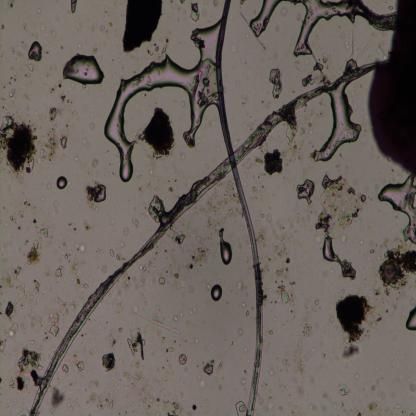Air bubble: (104, 26, 219, 183), (311, 85, 364, 162), (289, 1, 355, 57), (378, 175, 416, 244), (63, 51, 105, 86), (250, 0, 286, 38), (216, 230, 233, 266), (322, 234, 341, 266), (294, 177, 317, 202), (27, 40, 44, 62), (404, 307, 416, 332), (95, 184, 107, 202), (211, 284, 223, 302), (55, 176, 69, 190), (69, 0, 79, 14)
Background material: (318, 172, 368, 238), (333, 294, 374, 359), (121, 364, 173, 414), (0, 113, 37, 179), (121, 0, 164, 54), (139, 104, 177, 162), (265, 214, 301, 269), (201, 180, 244, 226), (379, 246, 416, 290), (15, 346, 42, 392), (370, 288, 404, 324), (136, 392, 187, 415), (274, 257, 296, 308), (106, 276, 134, 314), (134, 314, 182, 336), (130, 251, 160, 283), (124, 328, 148, 365), (166, 254, 189, 292), (187, 233, 210, 271), (85, 388, 115, 413), (39, 128, 58, 165), (144, 32, 169, 60), (300, 294, 324, 322), (101, 319, 123, 349), (260, 151, 284, 176), (88, 10, 114, 32), (53, 294, 76, 318), (80, 334, 104, 357), (267, 68, 284, 100), (245, 159, 265, 186), (296, 200, 315, 228), (356, 34, 375, 62), (297, 110, 316, 137), (194, 71, 210, 103), (150, 195, 167, 225), (21, 195, 42, 219), (167, 228, 188, 250), (60, 97, 80, 120), (5, 266, 24, 289), (282, 143, 301, 166), (284, 115, 299, 144), (26, 238, 42, 265), (47, 310, 61, 340), (19, 308, 40, 328), (50, 385, 66, 411), (9, 209, 24, 236), (136, 284, 152, 309), (294, 338, 304, 378), (260, 387, 276, 412), (100, 352, 118, 374), (339, 259, 356, 282), (159, 334, 175, 358), (105, 245, 124, 264), (16, 290, 35, 308), (249, 183, 268, 201), (201, 356, 215, 378), (312, 52, 329, 70), (188, 1, 201, 24), (242, 297, 256, 318), (232, 279, 249, 296), (366, 398, 382, 416), (66, 397, 84, 413), (41, 23, 57, 41), (16, 66, 30, 86), (15, 393, 27, 416), (240, 84, 251, 109), (86, 183, 96, 210), (242, 114, 258, 130), (321, 270, 336, 287), (89, 374, 103, 392), (70, 275, 88, 289), (8, 44, 23, 60), (81, 219, 97, 234), (285, 400, 300, 416), (376, 33, 386, 57), (7, 322, 20, 340), (43, 232, 55, 251), (52, 263, 64, 282), (300, 73, 315, 88), (50, 79, 64, 95), (3, 75, 19, 89), (191, 372, 204, 389), (180, 216, 193, 233), (140, 183, 160, 194), (298, 382, 310, 400), (73, 241, 87, 256), (48, 104, 60, 121), (0, 203, 8, 228), (240, 365, 250, 385), (31, 276, 42, 294), (300, 322, 314, 336), (62, 247, 75, 262), (258, 211, 271, 225), (337, 384, 352, 396), (284, 311, 296, 326), (70, 258, 81, 274), (5, 300, 14, 319), (45, 172, 55, 189), (234, 401, 247, 414), (44, 64, 56, 78), (321, 389, 333, 403), (368, 381, 380, 395), (258, 96, 270, 110), (2, 394, 11, 412), (179, 352, 188, 370), (279, 374, 288, 392), (218, 350, 226, 370), (76, 358, 86, 374), (282, 357, 292, 373), (88, 155, 100, 168), (140, 199, 147, 221), (147, 164, 156, 181), (60, 134, 68, 152), (0, 277, 8, 295), (5, 373, 14, 389), (94, 245, 105, 258), (67, 221, 77, 235), (80, 134, 90, 148), (20, 21, 30, 35), (1, 255, 16, 264), (16, 176, 27, 188), (1, 103, 12, 115), (333, 162, 346, 172), (130, 217, 140, 229), (72, 152, 82, 164), (0, 336, 7, 353), (52, 199, 59, 215), (120, 226, 130, 237), (42, 331, 50, 344), (8, 88, 17, 99), (40, 194, 48, 206), (75, 38, 83, 50), (271, 54, 279, 66), (39, 228, 49, 237), (78, 197, 84, 212), (60, 363, 68, 374), (352, 370, 360, 381), (27, 61, 35, 72), (101, 265, 109, 276), (289, 376, 297, 387), (66, 379, 78, 386), (279, 7, 288, 16), (30, 218, 38, 228), (3, 240, 11, 250), (366, 222, 376, 230), (170, 312, 180, 320), (228, 42, 236, 52), (193, 335, 200, 346), (132, 303, 139, 314), (296, 61, 303, 72), (158, 276, 166, 285), (312, 31, 320, 40), (92, 44, 99, 54), (70, 356, 77, 366), (176, 0, 186, 7), (367, 249, 377, 256), (90, 121, 96, 132), (394, 402, 402, 410), (322, 352, 330, 360), (340, 402, 348, 410), (9, 0, 16, 9), (191, 305, 198, 314), (242, 344, 248, 354), (132, 205, 138, 215), (28, 339, 36, 346), (191, 404, 198, 412), (184, 320, 192, 327), (203, 283, 211, 290), (44, 268, 50, 277), (210, 0, 219, 6), (238, 327, 245, 334), (58, 43, 64, 51), (340, 287, 346, 295), (23, 94, 29, 102), (270, 332, 276, 340), (259, 235, 265, 243), (274, 27, 280, 35), (389, 4, 395, 12), (356, 411, 365, 416), (53, 120, 58, 129), (180, 98, 185, 107), (277, 405, 283, 412), (168, 187, 174, 194), (203, 163, 209, 170), (169, 1, 175, 8), (238, 0, 246, 5), (270, 368, 275, 376), (180, 151, 185, 159), (357, 238, 363, 244), (160, 363, 165, 370), (297, 14, 301, 22), (346, 43, 350, 51), (44, 51, 50, 56), (292, 88, 297, 94), (273, 317, 278, 322), (252, 11, 258, 15), (0, 376, 2, 387), (1, 25, 5, 30), (36, 9, 40, 14), (48, 287, 52, 291), (132, 71, 136, 75), (339, 154, 343, 158), (311, 144, 314, 149), (322, 342, 324, 348)
Cellulose filter fibre: (28, 58, 382, 416), (355, 0, 398, 35)
Microfibre: (214, 0, 263, 415)
Pen: (370, 0, 416, 181)
